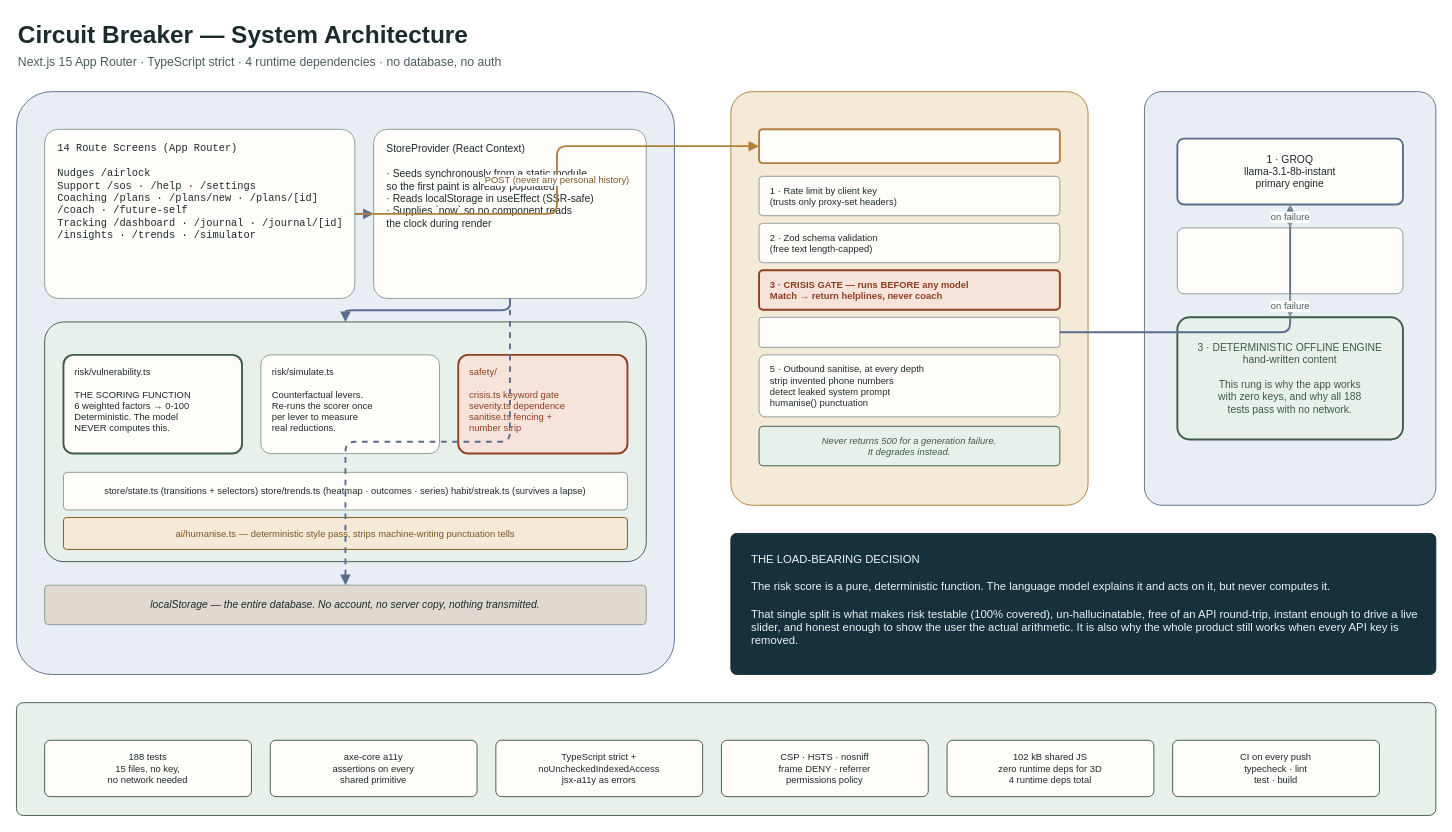
Some shapes in this 1452 by 832 pixel diagram are drawn without their labels. Each missing label, with the box of its shape:
/api/generate — THE ONLY SERVER ROUTE: (758, 128, 1060, 164)
2 · GEMINI 2.5 Flash-Lite automatic fallback: (1176, 227, 1403, 294)
4 · Generate through provider chain: (758, 316, 1060, 347)
BROWSER (the only place user data ever lives): (16, 91, 674, 674)
GENERATION CHAIN — falls through on any failure: (1144, 91, 1436, 505)
PURE DOMAIN LOGIC (100% test coverage, zero I/O): (44, 321, 646, 562)
VERCEL SERVERLESS (Node runtime): (730, 91, 1088, 505)
VERIFICATION: (16, 702, 1436, 815)
